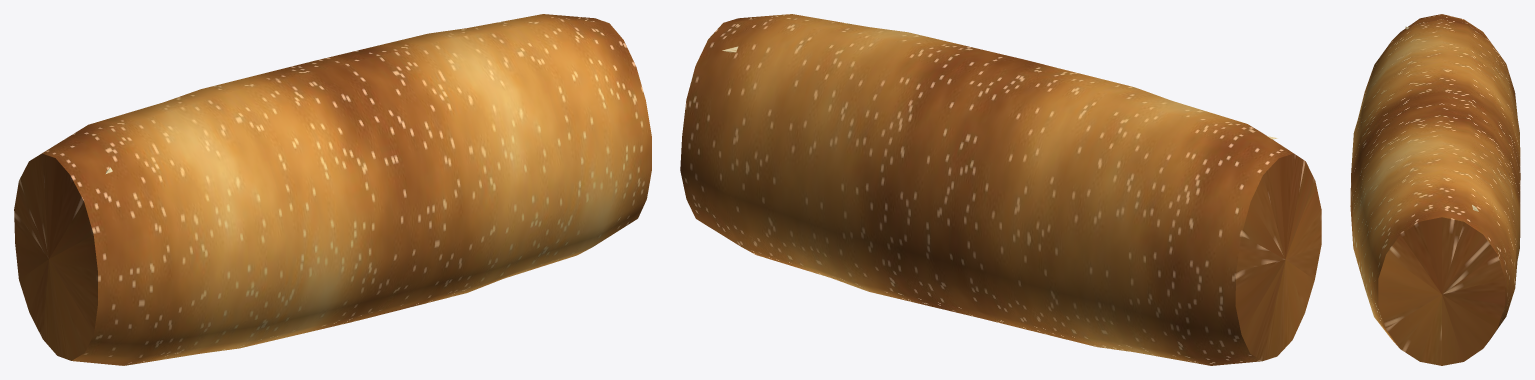
File: bakery_bread_loaf.glb
3 renders of one model, left to right at view 1: azimuth 30°, elevation 25°; view 2: azimuth 150°, elevation 25°; view 3: azimuth 270°, elevation 25°, orthographic. The views are drawn at different scales.
Parts seen in each view (by area): view 1: bakery_bread_loaf; view 2: bakery_bread_loaf; view 3: bakery_bread_loaf.
Boxes of the visible parts, box(x1,y1,x2,y2) form: bakery_bread_loaf: box(14, 14, 651, 365); bakery_bread_loaf: box(680, 14, 1321, 365); bakery_bread_loaf: box(1350, 14, 1520, 365).
Size of the model in its own units: 0.3002 by 0.1247 by 0.1035.
2 materials, 2 textured.
